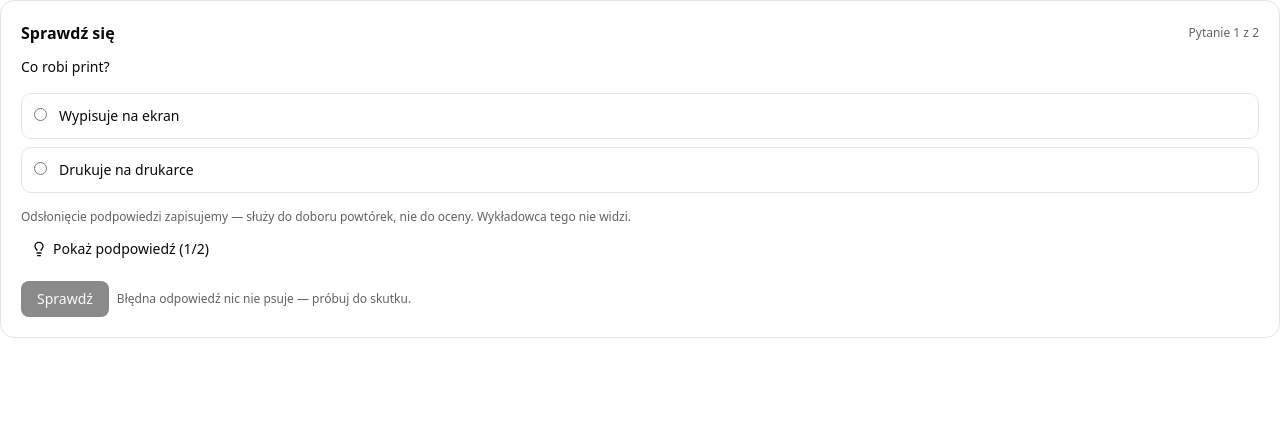
Test: ItemRunner › błędna odpowiedź: feedback natychmiast, pytanie zostaje, próbujesz dalej (R13)
Click the radio button labelled "Drukuje na drukarce" at [40, 168], box [34, 162, 47, 175]
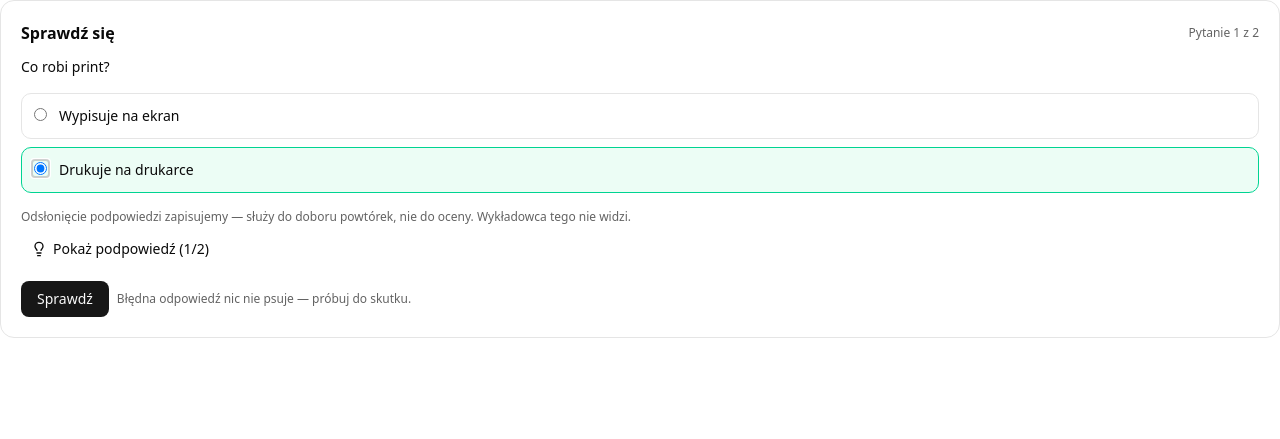
Click the button "Sprawdź" at [65, 299], box [21, 281, 109, 317]
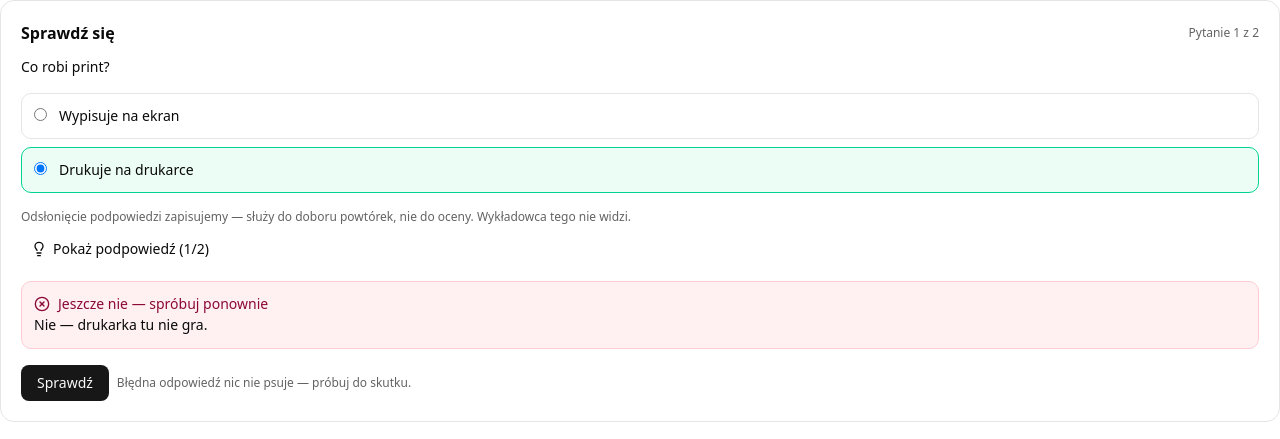
Expected: the text "Co robi print?" is shown, [21, 57, 110, 76]
Now the text "Jeszcze nie — spróbuj ponownie" is shown, box [34, 294, 268, 313]
Now the text "Nie — drukarka tu nie gra." is shown, box [34, 315, 207, 334]
